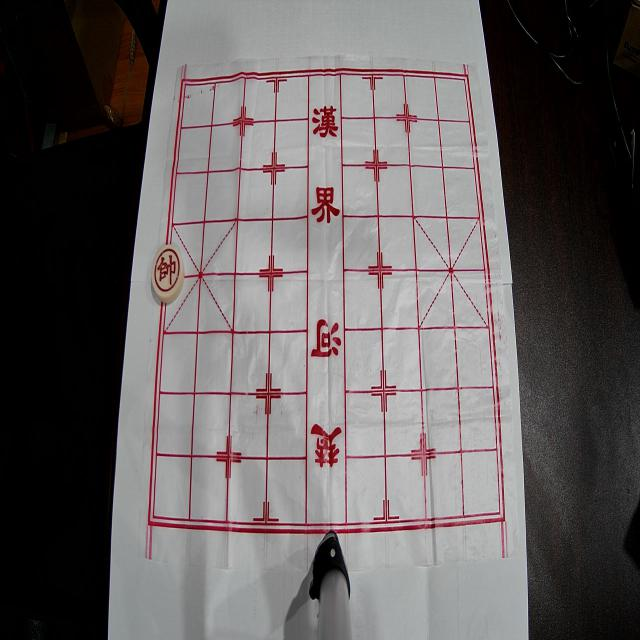red-general: (152, 244, 184, 304)
